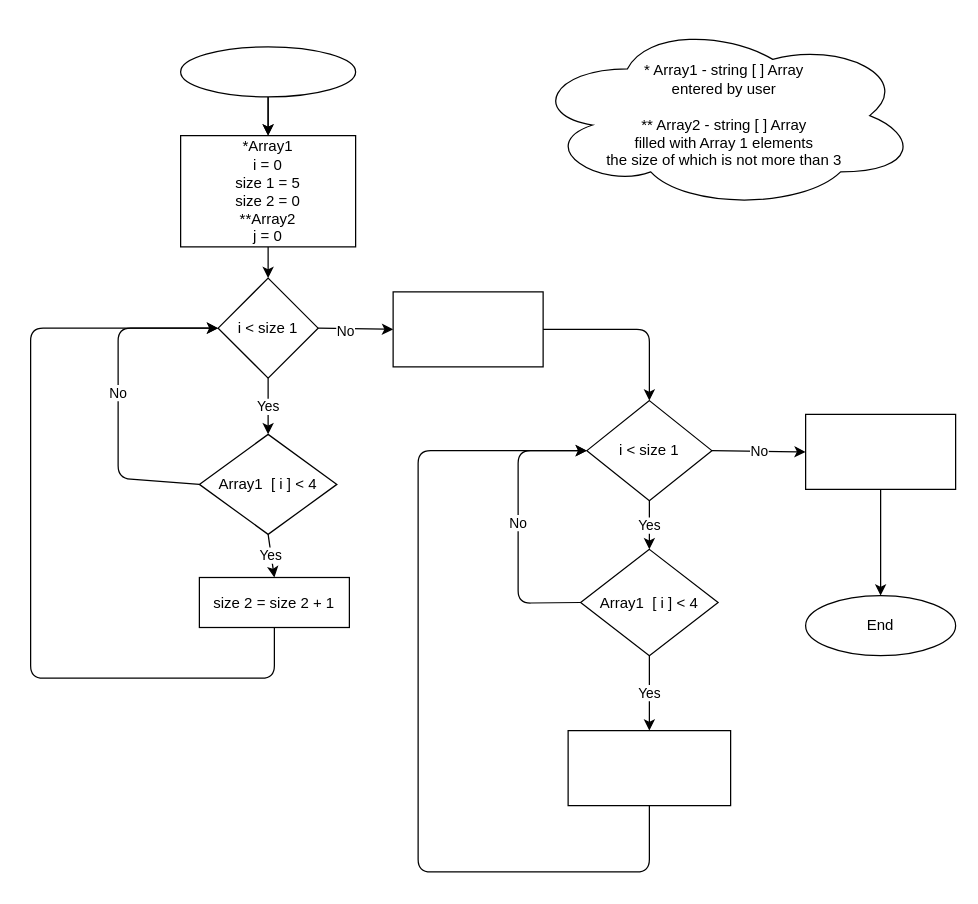
This 978x904 diagram has some shape labels left out. Here are the shapes that lost their labels. From the top down, the centre of each, then its label:
At point (267, 71): "Start".
At point (467, 329): "Array2 [ size 2 ]".
At point (880, 451): "Print Array2".
At point (649, 767): "Array2 [ j ] = Array1 [ i ]".
